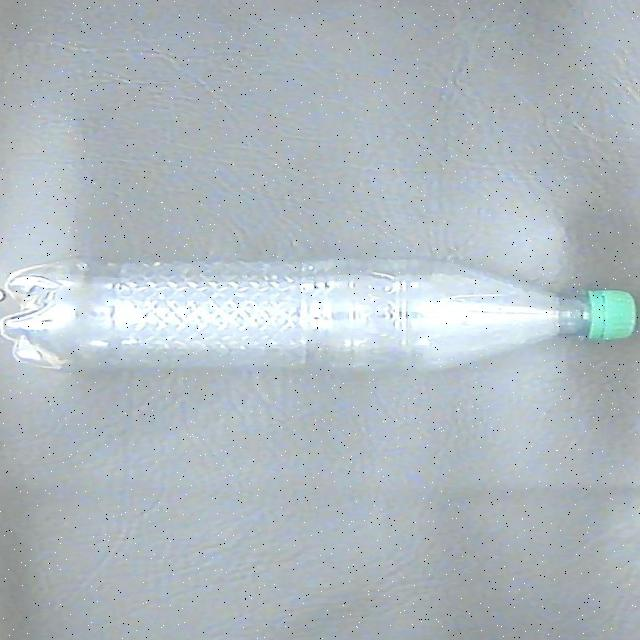plastic: (4, 250, 632, 374)
